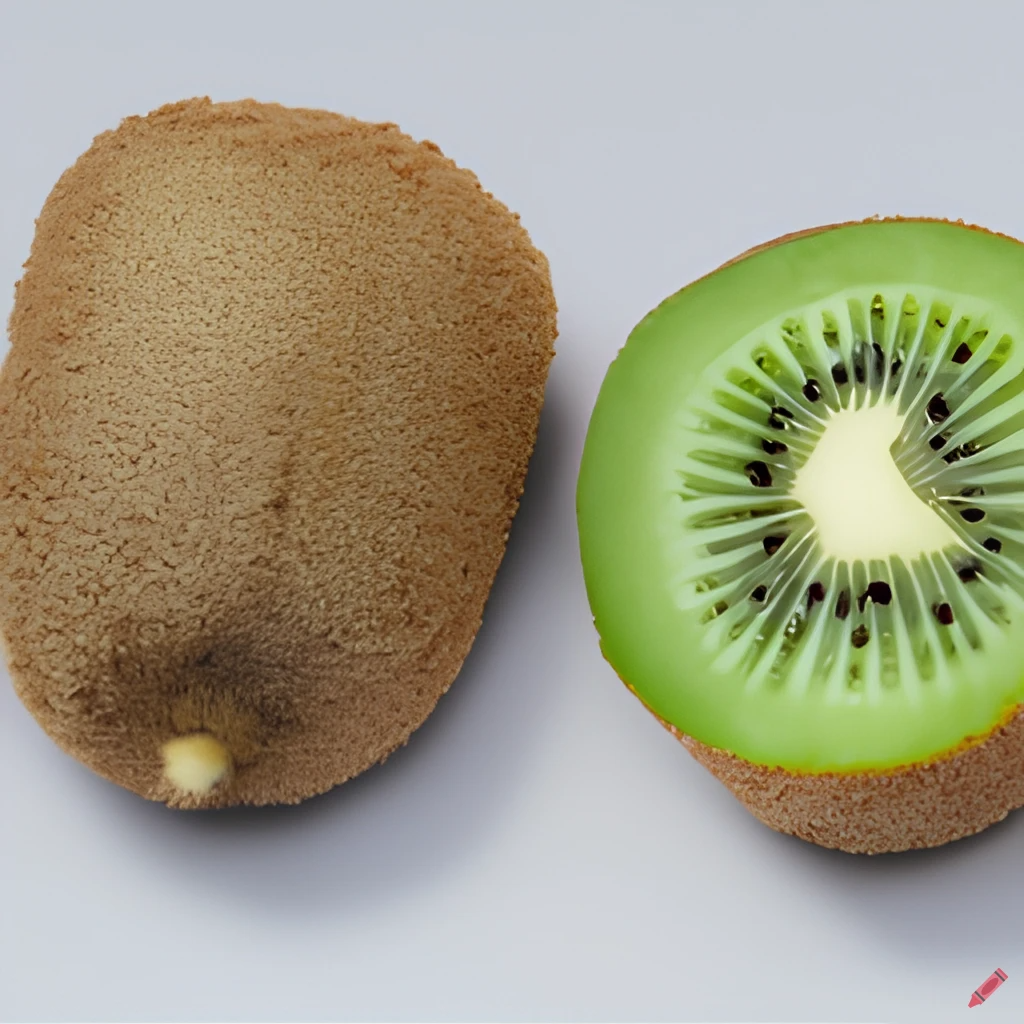Kiwi: (0, 80, 556, 870)
